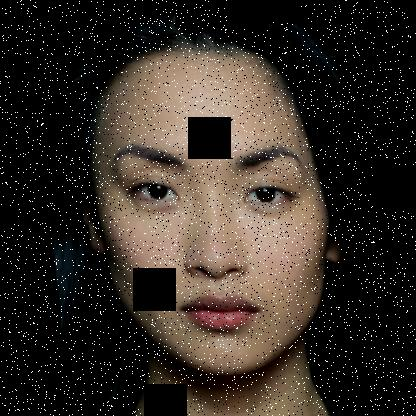Female: (63, 20, 358, 389)
